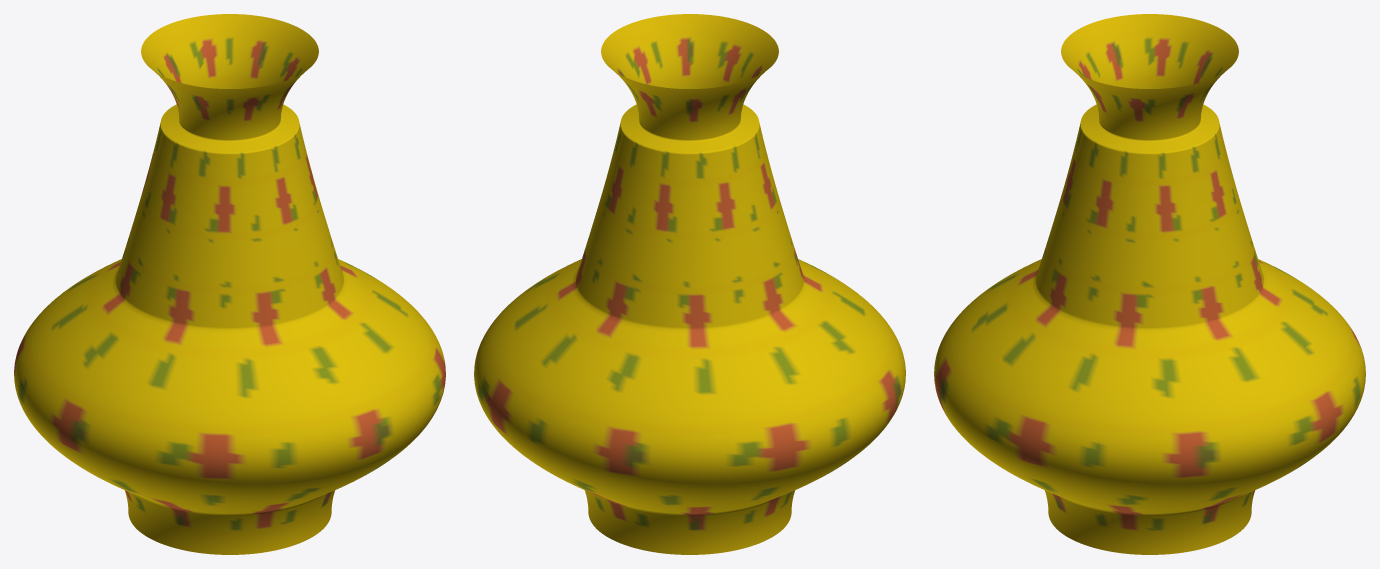
File: vase.glb
The picture shows the model from 3 angles, left to right: view 1: azimuth 30°, elevation 25°; view 2: azimuth 150°, elevation 25°; view 3: azimuth 270°, elevation 25°; orthographic projection.
Bounding box in the file's own units: 3.4 × 4 × 3.4.
